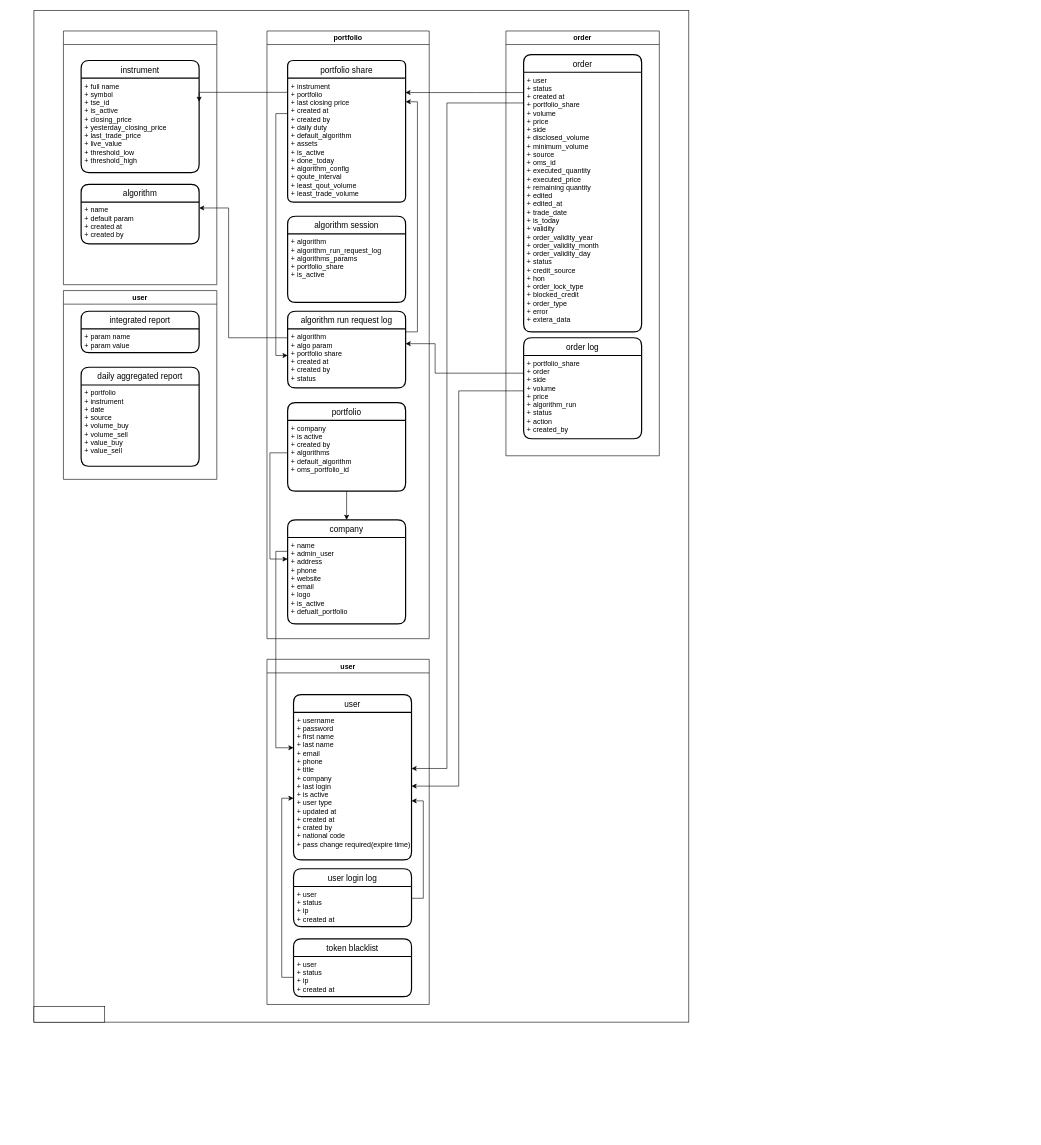
This 1041x1145 diagram has some shape labels left out. The centre of each missing label's shape, as x and y in pixels:
"market" goes at pixel 140 157.
"v.0.0.2 (000406)" goes at pixel 69 1014.
